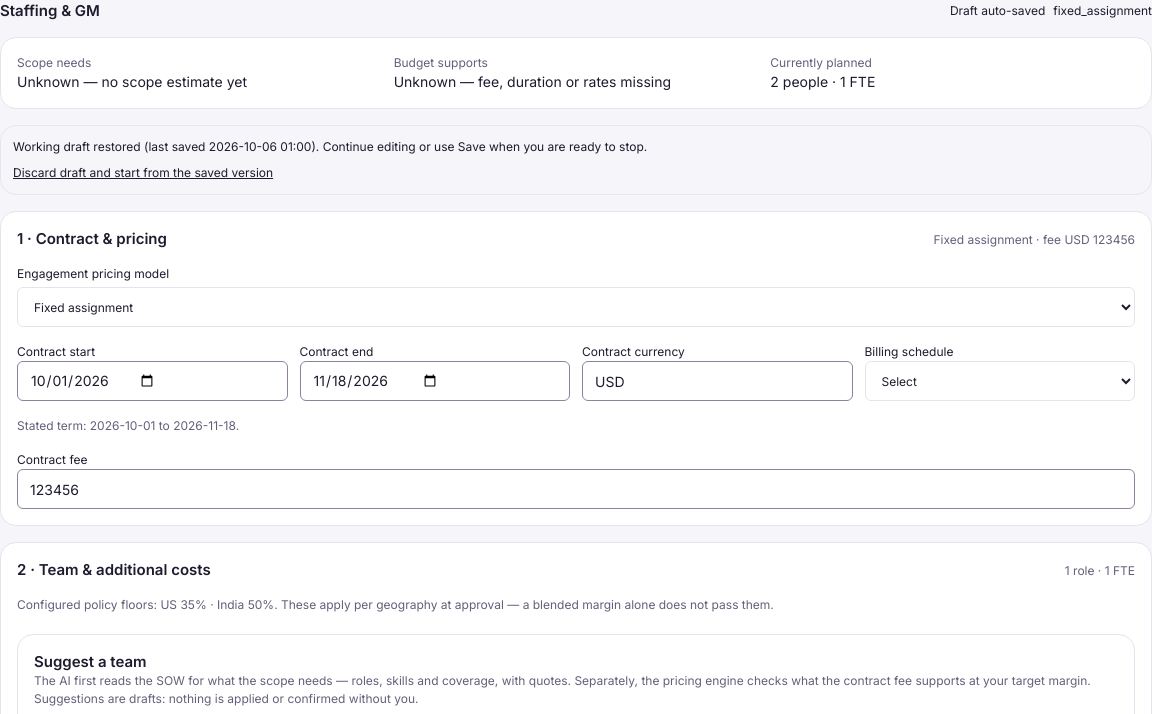
Test: Server-persisted commercial draft › restores the server draft after a fresh load, with discard
Expected: the element with test id "draft-restored-banner" is shown, 0,125 -> 1151,195
Expected: the field labelled "Contract fee" holds "123456", 17,469 -> 1135,509
Click the button with test id "draft-discard": (143, 173) 13,164 -> 273,182
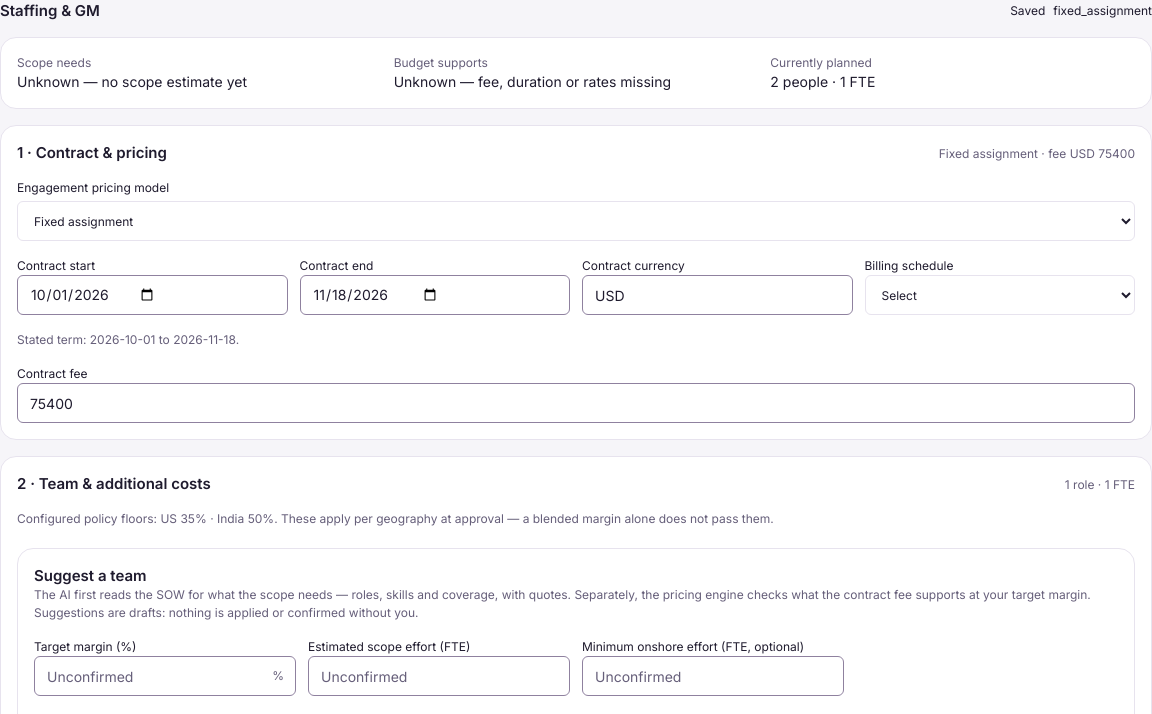
Expected: the field labelled "Contract fee" holds "75400", 17,383 -> 1135,423
